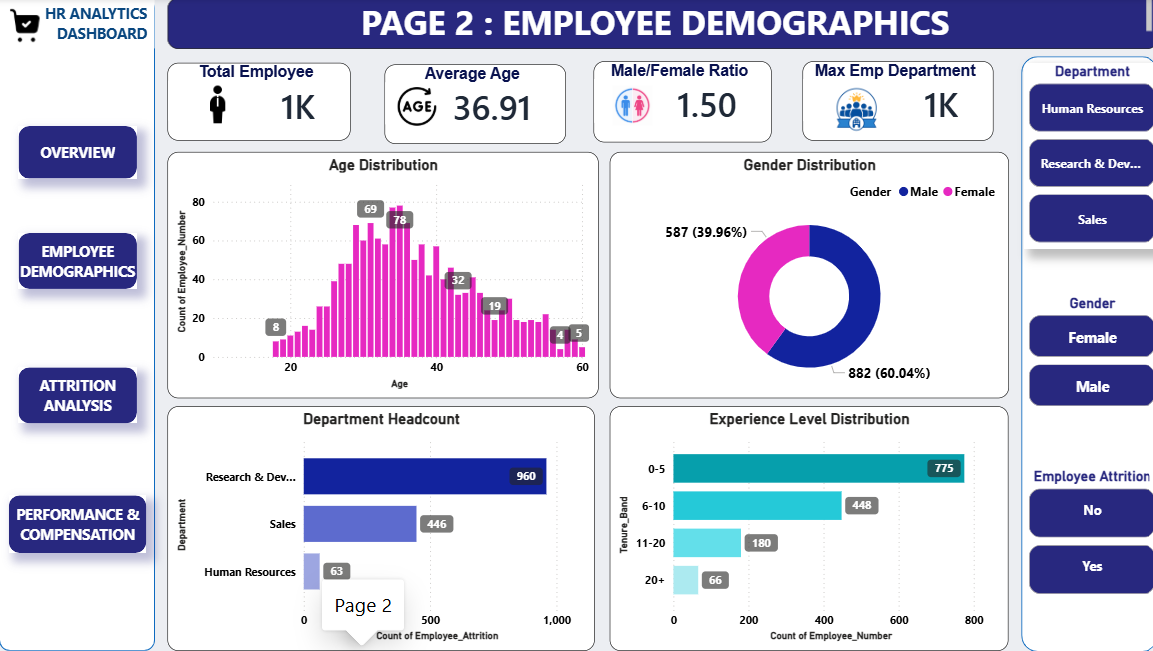

The dashboard page shown, as its layout file describes it:
{"tool":"powerbi","page":{"name":"Page 2","canvas":[1280,720],"ordinal":1},"visuals":[{"type":"shape","box":[0,0,172.3,720.6],"z":0},{"type":"textbox","box":[188.1,0,1091,55.2],"z":1000},{"type":"cardVisual","title":"Total Employee","fields":{"Data":["Excel_HR_Cleaned_Data.Total Employees"]},"box":[189.3,71.4,223.2,89.3],"z":2000},{"type":"cardVisual","title":"Max Emp Department","fields":{"Data":["Excel_HR_Cleaned_Data.Department with Maximum Employees"]},"box":[1050.1,69.7,228.6,91.1],"z":3000},{"type":"cardVisual","title":"Average Age","fields":{"Data":["Avg(Excel_HR_Cleaned_Data.Age)"]},"box":[473.3,73.2,228.6,87.5],"z":4000},{"type":"cardVisual","title":"Male/Female Ratio","fields":{"Data":["Excel_HR_Cleaned_Data.Male Female Ratio"]},"box":[764.4,71.4,223.2,89.3],"z":5000},{"type":"clusteredColumnChart","title":"Age Distribution","fields":{"Y":["Count(Excel_HR_Cleaned_Data.Employee_Number)"],"Category":["Excel_HR_Cleaned_Data.Age"]},"box":[189.3,169.7,543,272],"z":6000},{"type":"donutChart","title":"Gender Distribution","fields":{"Category":["Excel_HR_Cleaned_Data.Gender"],"Y":["Count(Excel_HR_Cleaned_Data.Employee_Number)"]},"box":[741.2,169.7,539.3,271.5],"z":7000},{"type":"clusteredBarChart","title":"Department Headcount","fields":{"Category":["Excel_HR_Cleaned_Data.Department"],"Y":["CountNonNull(Excel_HR_Cleaned_Data.Employee_Attrition)"]},"box":[185.7,450,546.5,269.7],"z":8000},{"type":"clusteredBarChart","title":"Experience Level Distribution","fields":{"Category":["Excel_HR_Cleaned_Data.Tenure_Band"],"Y":["Count(Excel_HR_Cleaned_Data.Employee_Number)"]},"box":[741.2,450,539.3,269.7],"z":9000},{"type":"actionButton","box":[10.6,141.2,148.3,58.2],"z":10000},{"type":"actionButton","box":[10.6,259.4,148.3,61.8],"z":11000},{"type":"actionButton","box":[10.6,407.7,148.3,61.8],"z":12000},{"type":"actionButton","box":[12.4,548.9,148.3,63.5],"z":13000},{"type":"actionButton","box":[0,0,171.4,55.4],"z":14000},{"type":"image","box":[208.8,94.7,63.8,58],"z":15000},{"type":"image","box":[491.1,100.5,59.9,52.2],"z":16000},{"type":"image","box":[777.3,94.7,67.7,58],"z":17000},{"type":"image","box":[1065.4,90.9,73.5,65.7],"z":18000},{"type":"listSlicer","fields":{"Values":["Excel_HR_Cleaned_Data.Department"]},"box":[866,0,184,56],"z":19000},{"type":"listSlicer","fields":{"Values":["Excel_HR_Cleaned_Data.Gender"]},"box":[1072,0,184,56],"z":20000}]}

Visuals, with their boxes in screenshot pixels (x1, y1, x2, y2), scaled from the page's 1280x720 canvas onto the 1153x651 screenshot:
shape: [x1=0, y1=0, x2=155, y2=650]
textbox: [x1=169, y1=0, x2=1152, y2=50]
"Total Employee" cardVisual: [x1=171, y1=65, x2=372, y2=145]
"Max Emp Department" cardVisual: [x1=946, y1=63, x2=1152, y2=145]
"Average Age" cardVisual: [x1=426, y1=66, x2=632, y2=145]
"Male/Female Ratio" cardVisual: [x1=689, y1=65, x2=890, y2=145]
"Age Distribution" clusteredColumnChart: [x1=171, y1=153, x2=660, y2=399]
"Gender Distribution" donutChart: [x1=668, y1=153, x2=1152, y2=399]
"Department Headcount" clusteredBarChart: [x1=167, y1=407, x2=660, y2=650]
"Experience Level Distribution" clusteredBarChart: [x1=668, y1=407, x2=1152, y2=650]
actionButton: [x1=10, y1=128, x2=143, y2=180]
actionButton: [x1=10, y1=235, x2=143, y2=290]
actionButton: [x1=10, y1=369, x2=143, y2=425]
actionButton: [x1=11, y1=496, x2=145, y2=554]
actionButton: [x1=0, y1=0, x2=154, y2=50]
image: [x1=188, y1=86, x2=246, y2=138]
image: [x1=442, y1=91, x2=496, y2=138]
image: [x1=700, y1=86, x2=761, y2=138]
image: [x1=960, y1=82, x2=1026, y2=142]
listSlicer - Excel_HR_Cleaned_Data.Department: [x1=780, y1=0, x2=946, y2=51]
listSlicer - Excel_HR_Cleaned_Data.Gender: [x1=966, y1=0, x2=1131, y2=51]
